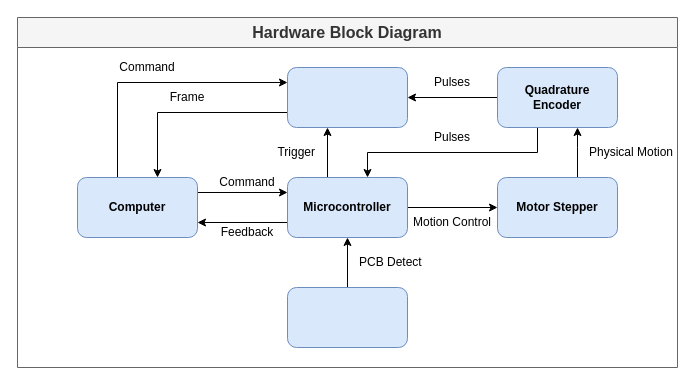
The diagram is 695 pixels wide and 385 high, and some of its shapes have lost their labels. Here are the shapes that lost their labels. From the top down, the box of each, then its label:
(286, 66, 408, 128): Camera
(286, 286, 408, 348): Photoelectric Sensor
